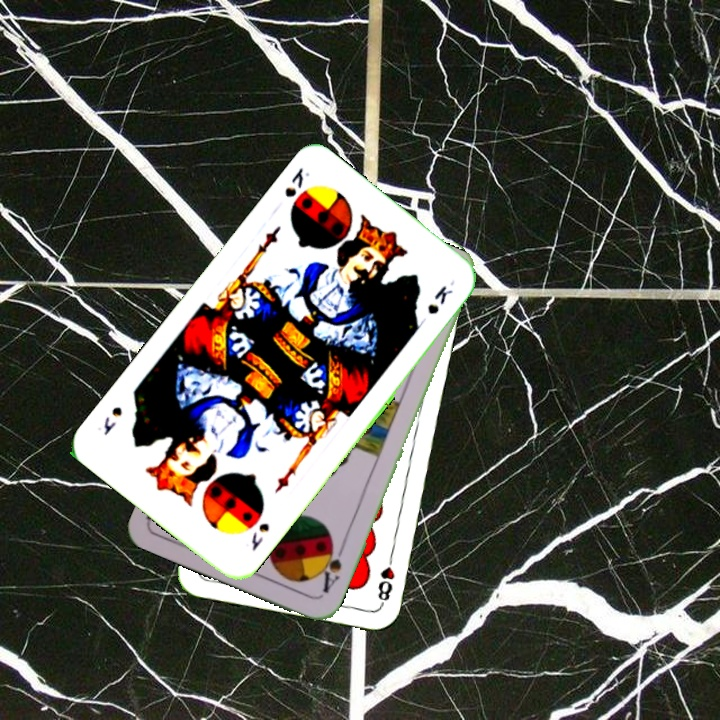H8: (374, 549, 397, 608)
SA: (316, 539, 348, 596)
SK: (280, 163, 312, 200), (247, 518, 272, 554)
